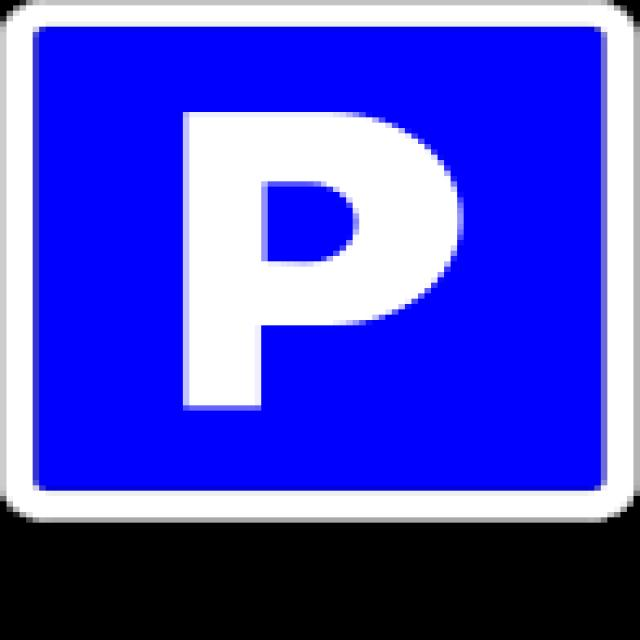indication: (0, 0, 636, 516)
